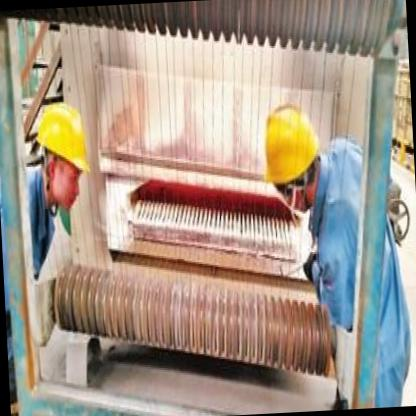helmet: (249, 90, 322, 214), (28, 92, 97, 217)
